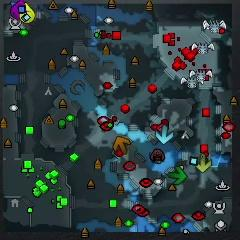p1: (10, 1, 19, 7)
p3: (10, 0, 25, 20)
p4: (19, 3, 36, 24)
x2: (195, 155, 212, 172)
x3: (155, 126, 174, 144)
x4: (167, 167, 187, 184)
x5: (113, 136, 130, 154)
